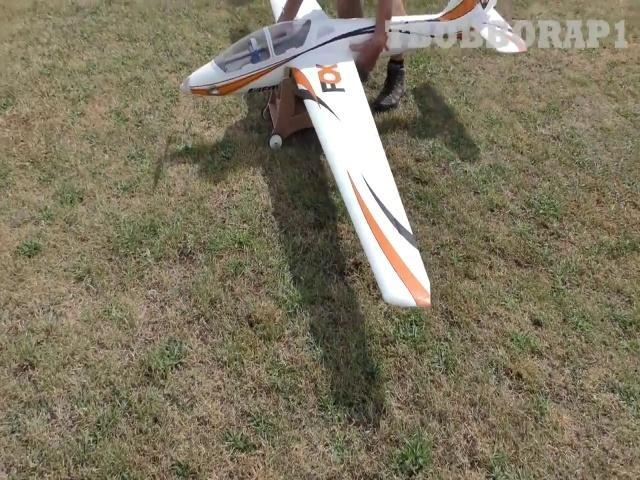Airplane: (178, 1, 526, 306)
